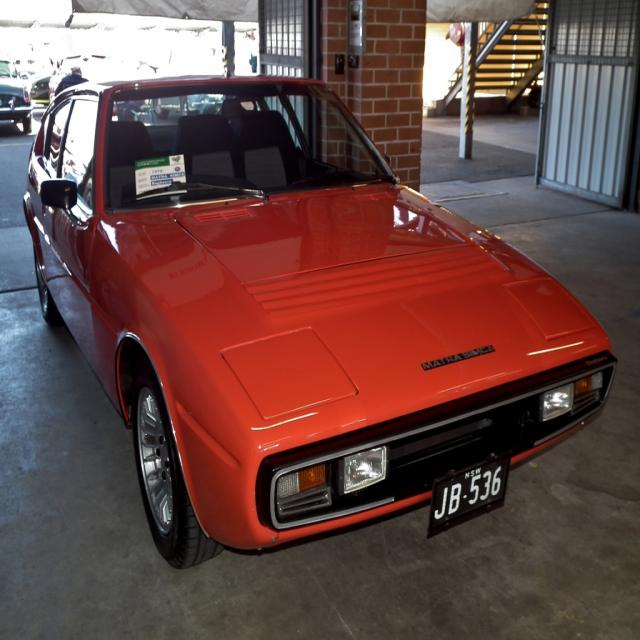Car: (22, 75, 618, 570), (0, 60, 34, 133)
